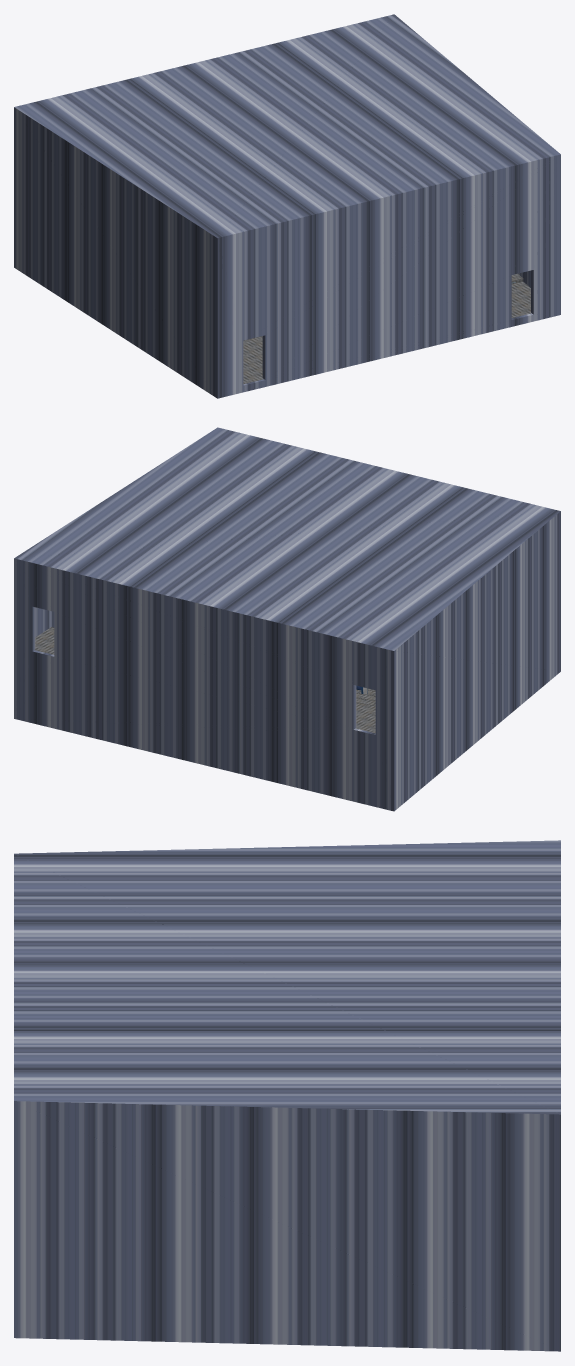
File: CinemaHall08.FBX
3 renders of one model, top to bottom at view 1: azimuth 30°, elevation 25°; view 2: azimuth 150°, elevation 25°; view 3: azimuth 270°, elevation 25°, orthographic. The views are drawn at different scales.
Visible parts, largest first — view 1: Cinema08Wall, Cinema08Floor; view 2: Cinema08Wall, Cinema08Floor; view 3: Cinema08Wall.
Part boxes in pixels (bbox=[...]): Cinema08Wall: bbox=[14, 14, 560, 398]; Cinema08Floor: bbox=[243, 273, 531, 384]; Cinema08Wall: bbox=[14, 427, 560, 811]; Cinema08Floor: bbox=[35, 627, 375, 733]; Cinema08Wall: bbox=[14, 840, 560, 1351].
Size of the model in its own units: 1953 by 787 by 1647.
